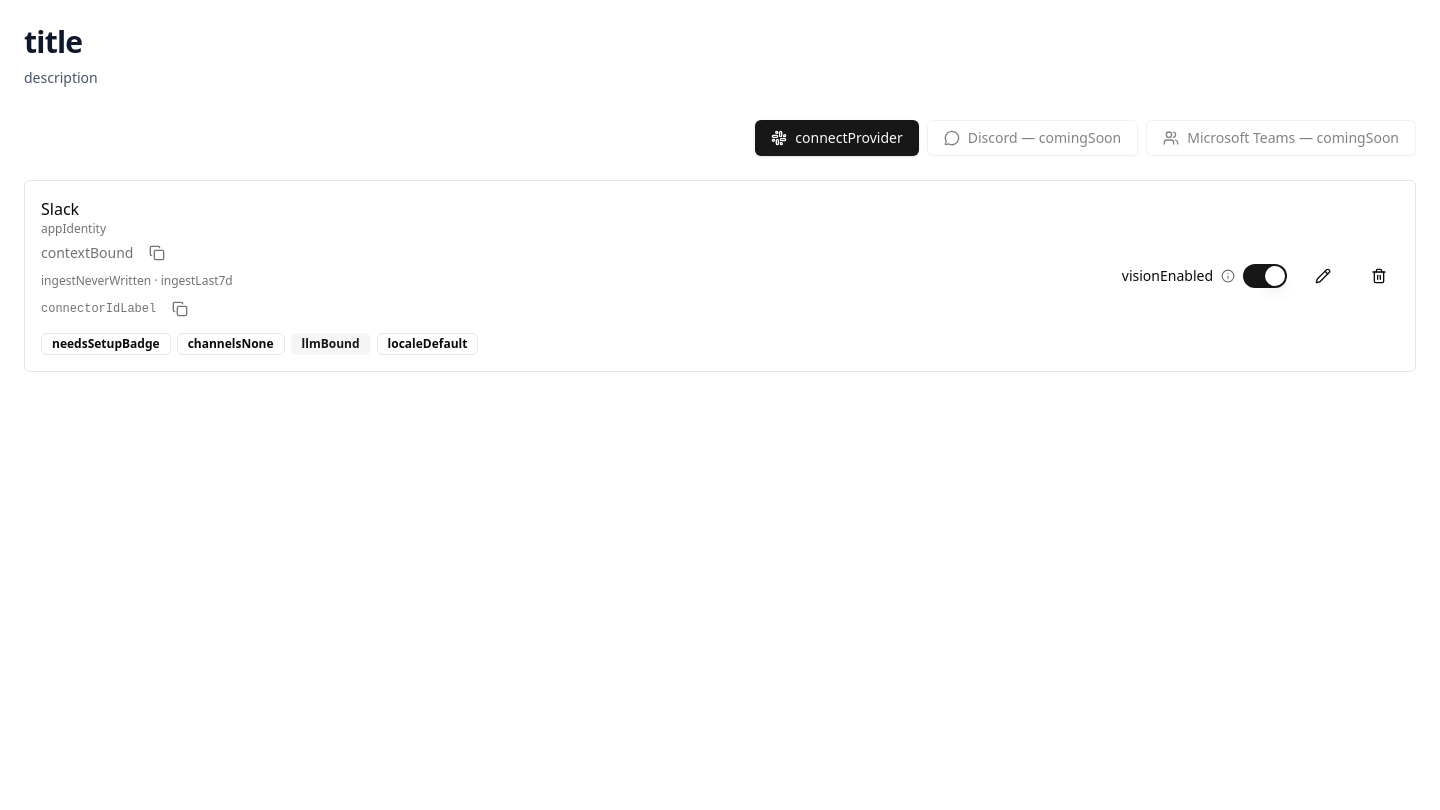
Test case: ConnectorsPage RBAC gate › flags channels the bot has not joined, and warns once one is selected (#1451)
Expected: the button "connectProvider" is shown, left=755, top=120, right=919, bottom=156
Click the button named "editSettings". click: (1323, 276)
box: left=1303, top=260, right=1343, bottom=292
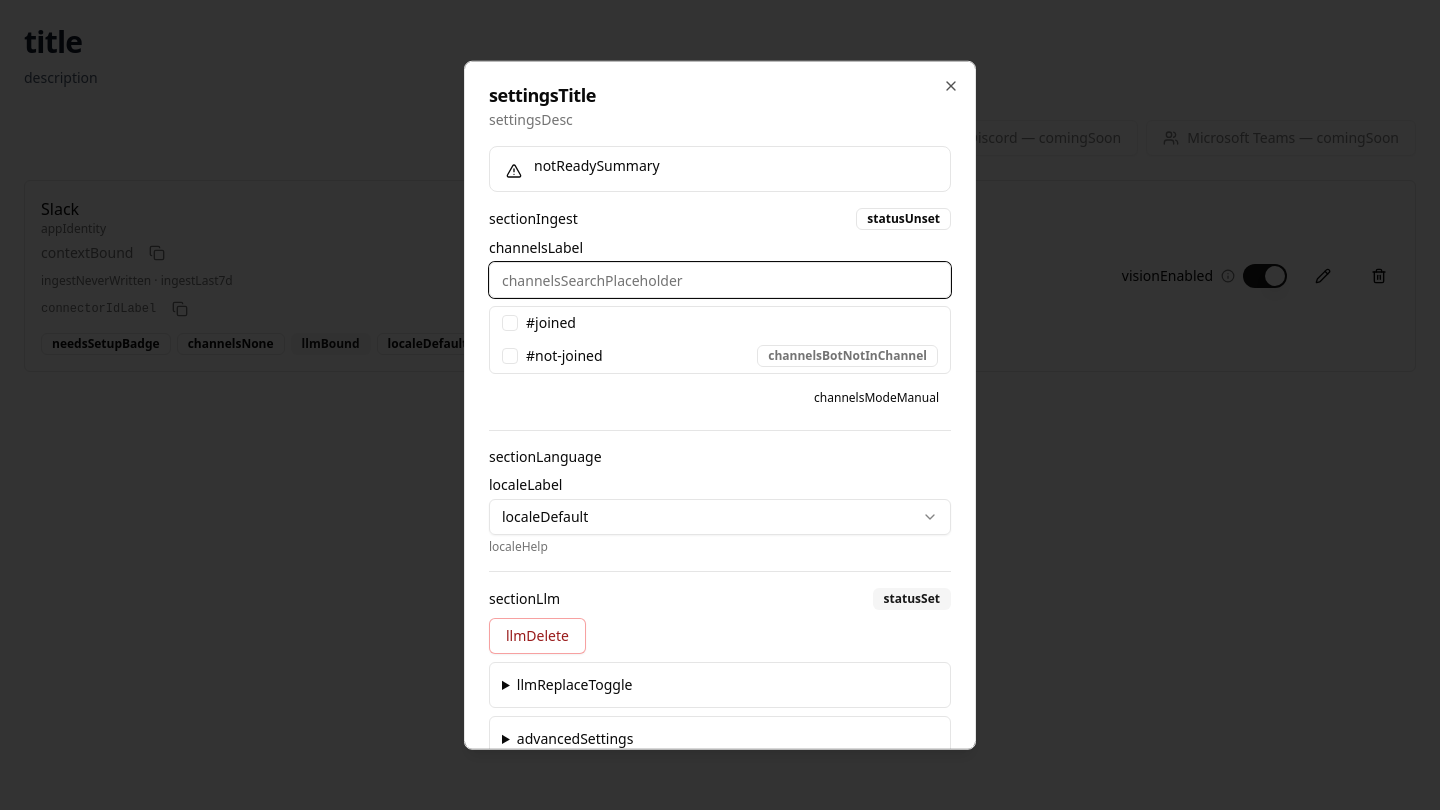
Expected: the text "channelsNotJoinedWarning" is not shown
Result: the text "channelsBotNotInChannel" is shown once at left=757, top=345, right=938, bottom=367
// Selecting the joined channel still warns about nothing.
Click the button "#joined". click: (555, 322)
box: left=490, top=307, right=950, bottom=339
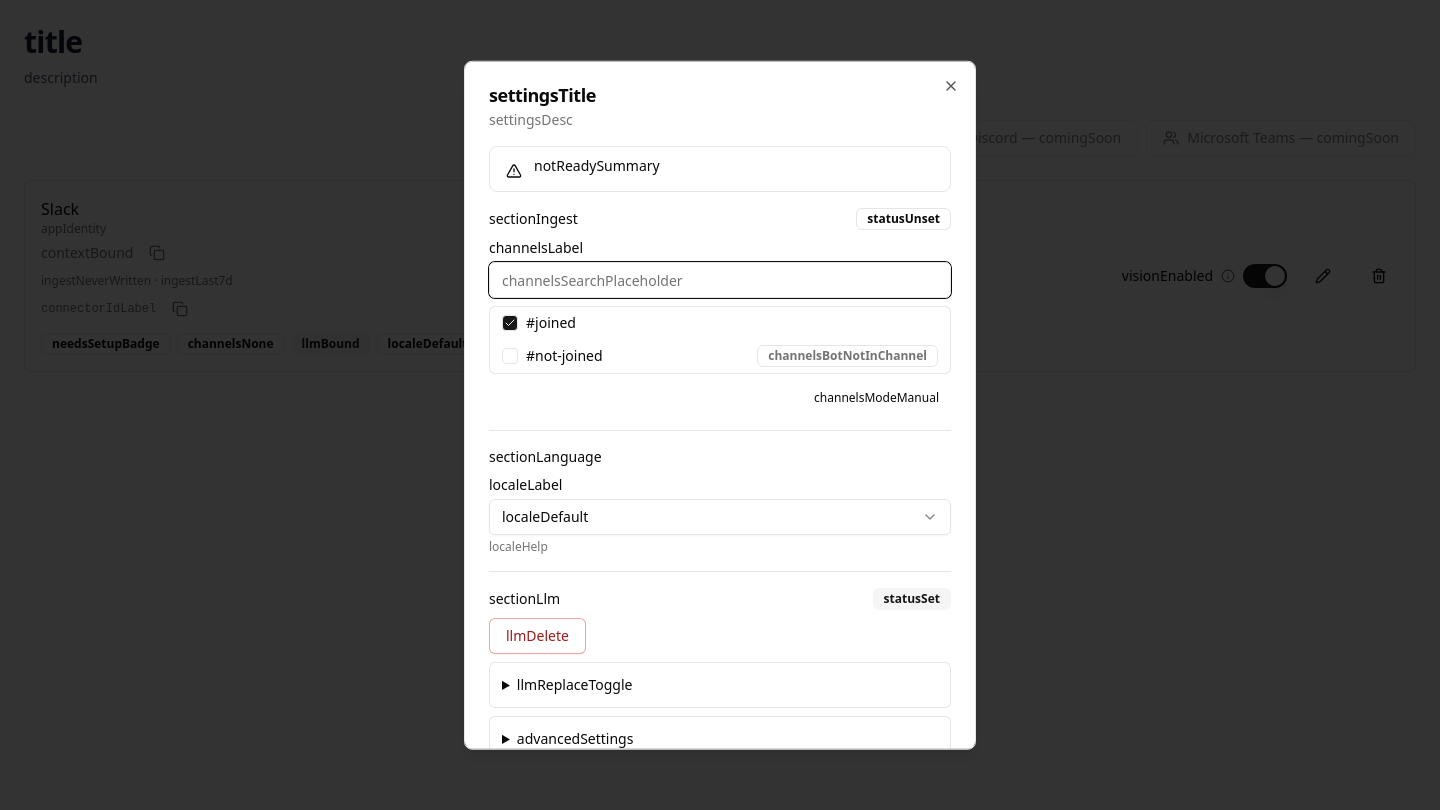
Expected: the text "channelsNotJoinedWarning" is not shown
// Selecting the un-joined one surfaces the warning.
Click the button "#not-joined channelsBotNotInChannel". click: (569, 355)
box: left=490, top=339, right=950, bottom=373
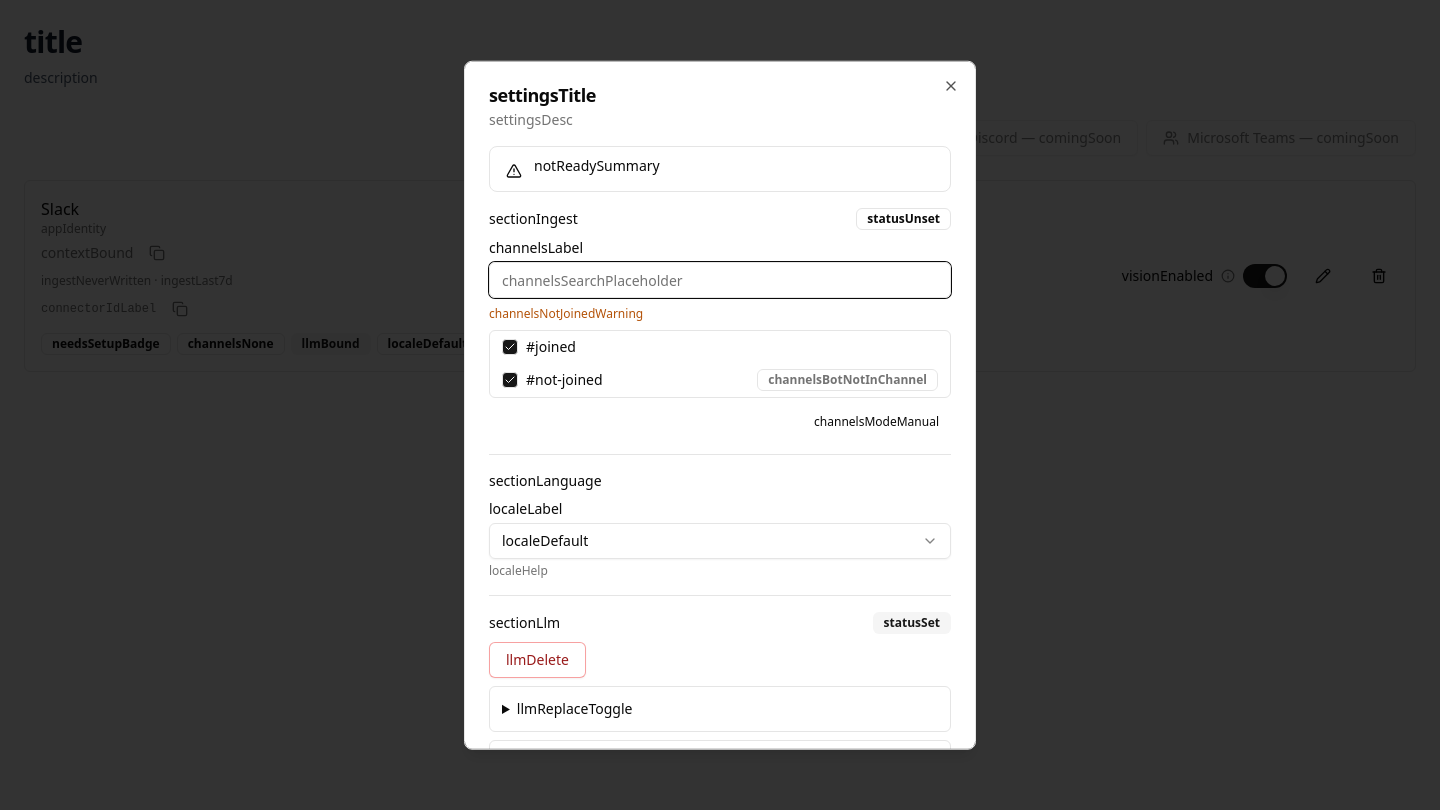
Result: the text "channelsNotJoinedWarning" is shown at left=489, top=305, right=643, bottom=322
